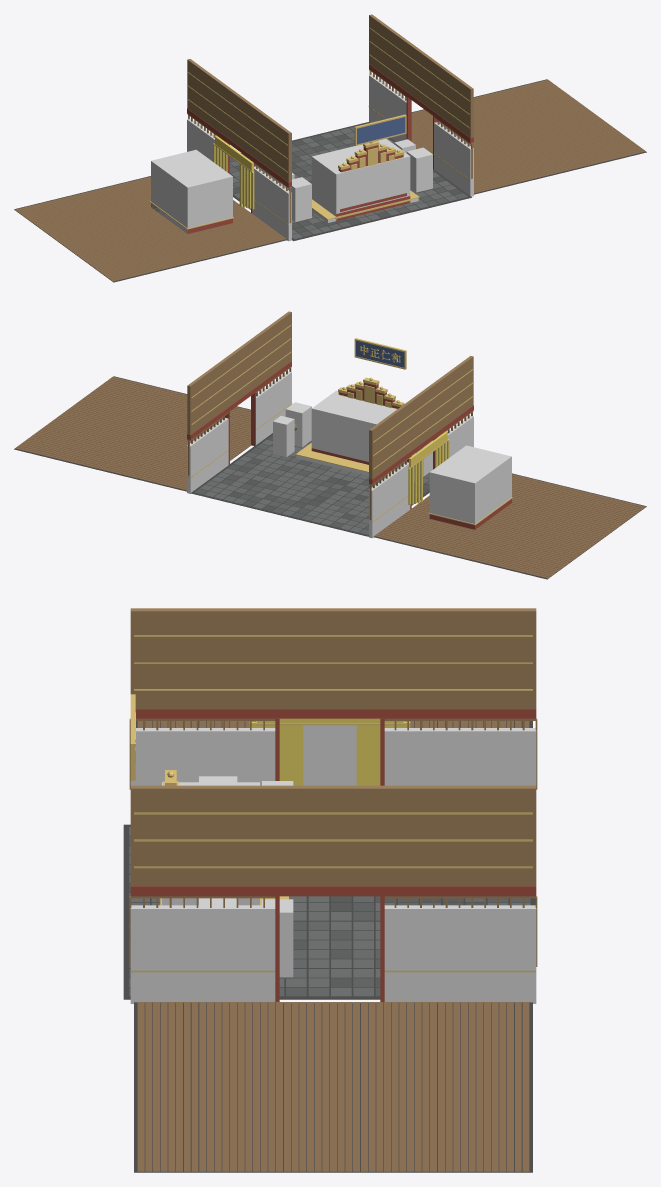
Rendered from yangxin.glb.
3 views of the same model, one above another, from view 1: azimuth 30°, elevation 25°; view 2: azimuth 150°, elevation 25°; view 3: azimuth 270°, elevation 25° (orthographic). The views are drawn at different scales.
Parts seen in each view (by area): view 1: merged_wood_floor, merged_nanmu, COL_east_dais, COL_dais, floor_tiles, merged_gold_lacquer, merged_brick_grout, merged_red_lacquer, COL_part_1_n, COL_part_-1_n, COL_part_1_s, merged_yellow_gauze (+4 smaller); view 2: merged_wood_floor, merged_nanmu, floor_tiles, COL_east_dais, merged_brick_grout, COL_dais, merged_gold_lacquer, merged_red_lacquer, COL_part_1_s, COL_part_-1_s, COL_part_1_n, merged_yellow_gauze (+4 smaller); view 3: merged_nanmu, merged_wood_floor, merged_brick_grout, COL_part_1_s, COL_part_1_n, merged_red_lacquer, floor_tiles, COL_part_-1_s, merged_gold_lacquer, COL_part_-1_n, merged_yellow_gauze, COL_east_dais (+1 smaller).
Part boxes in pixels (x1=…): merged_wood_floor: x1=15, y1=79, x2=645, y2=281; merged_nanmu: x1=187, y1=14, x2=473, y2=222; COL_east_dais: x1=151, y1=149, x2=232, y2=233; COL_dais: x1=311, y1=138, x2=410, y2=216; floor_tiles: x1=230, y1=123, x2=467, y2=238; merged_gold_lacquer: x1=150, y1=28, x2=470, y2=229; merged_brick_grout: x1=14, y1=79, x2=646, y2=282; merged_red_lacquer: x1=151, y1=64, x2=473, y2=233; COL_part_1_n: x1=434, y1=122, x2=473, y2=196; COL_part_-1_n: x1=252, y1=166, x2=291, y2=241; COL_part_1_s: x1=369, y1=74, x2=406, y2=141; merged_yellow_gauze: x1=213, y1=136, x2=254, y2=209; merged_wood_floor: x1=15, y1=376, x2=645, y2=578; merged_nanmu: x1=187, y1=311, x2=473, y2=519; floor_tiles: x1=194, y1=435, x2=429, y2=534; COL_east_dais: x1=429, y1=445, x2=511, y2=523; merged_brick_grout: x1=14, y1=376, x2=646, y2=579; COL_dais: x1=311, y1=390, x2=396, y2=461; merged_gold_lacquer: x1=187, y1=325, x2=512, y2=525; merged_red_lacquer: x1=187, y1=361, x2=511, y2=529; COL_part_1_s: x1=187, y1=418, x2=228, y2=493; COL_part_-1_s: x1=369, y1=462, x2=410, y2=538; COL_part_1_n: x1=252, y1=371, x2=291, y2=445; merged_yellow_gauze: x1=408, y1=431, x2=449, y2=504; merged_nanmu: x1=129, y1=608, x2=537, y2=966; merged_wood_floor: x1=137, y1=721, x2=529, y2=1172; merged_brick_grout: x1=123, y1=721, x2=535, y2=1172; COL_part_1_s: x1=384, y1=905, x2=536, y2=1003; COL_part_1_n: x1=130, y1=905, x2=275, y2=1003; merged_red_lacquer: x1=130, y1=709, x2=536, y2=1002; floor_tiles: x1=129, y1=827, x2=530, y2=996; COL_part_-1_s: x1=384, y1=728, x2=536, y2=785; merged_gold_lacquer: x1=130, y1=635, x2=536, y2=972; COL_part_-1_n: x1=130, y1=728, x2=275, y2=785; merged_yellow_gauze: x1=249, y1=718, x2=410, y2=785; COL_east_dais: x1=303, y1=725, x2=356, y2=785.
Bounding box in the file's own units: 35.2 × 6.78 × 11.82.
